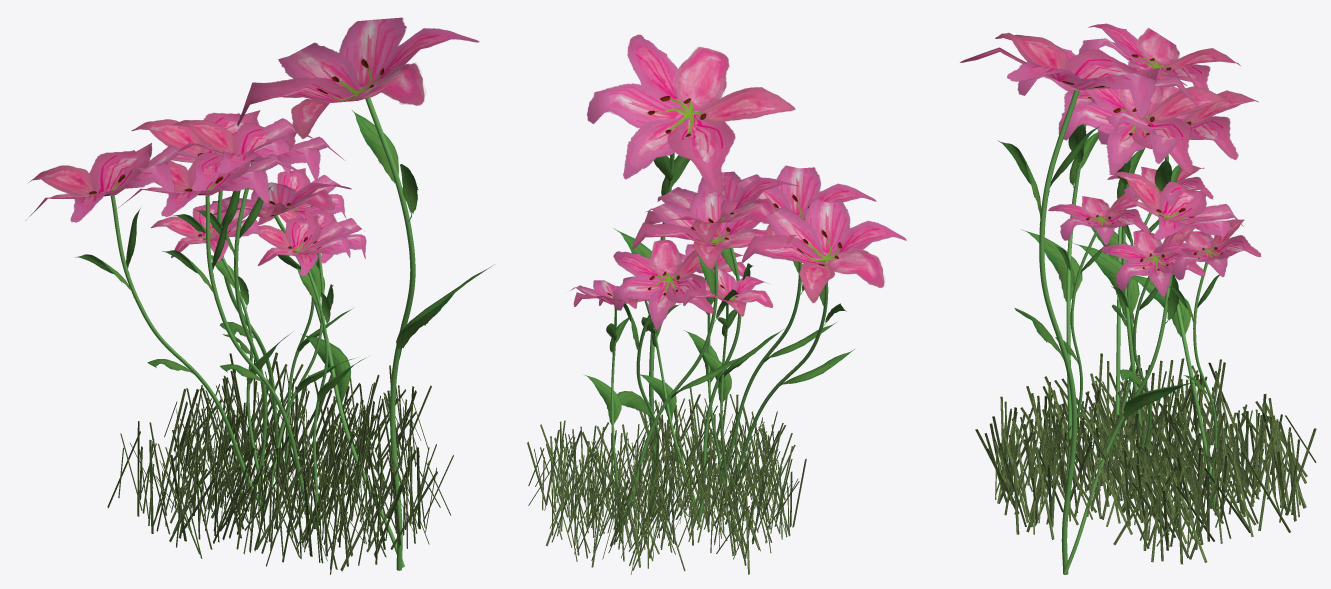
The model's file is lys_bigger.glb.
3 renders of one model, left to right at view 1: azimuth 30°, elevation 25°; view 2: azimuth 150°, elevation 25°; view 3: azimuth 270°, elevation 25°, orthographic. The views are drawn at different scales.
Visible parts, largest first — view 1: iris.001 (×5); view 2: iris.001 (×5); view 3: iris.001 (×5).
Boxes of the visible parts, x1,y1,x2,y2 form: iris.001 (×5): (25,17,494,570); iris.001 (×5): (570,34,906,530); iris.001 (×5): (960,23,1260,574).
Size of the model in its own units: 1.53 by 1.91 by 1.2.
5 materials, 4 textured.
